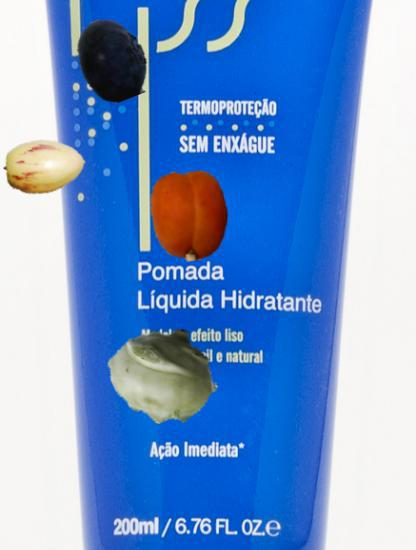Apricot: (144, 170, 236, 262)
Blueberry: (70, 17, 155, 102)
Kohlrabi: (106, 317, 221, 432)
Pepino: (4, 126, 86, 208)
